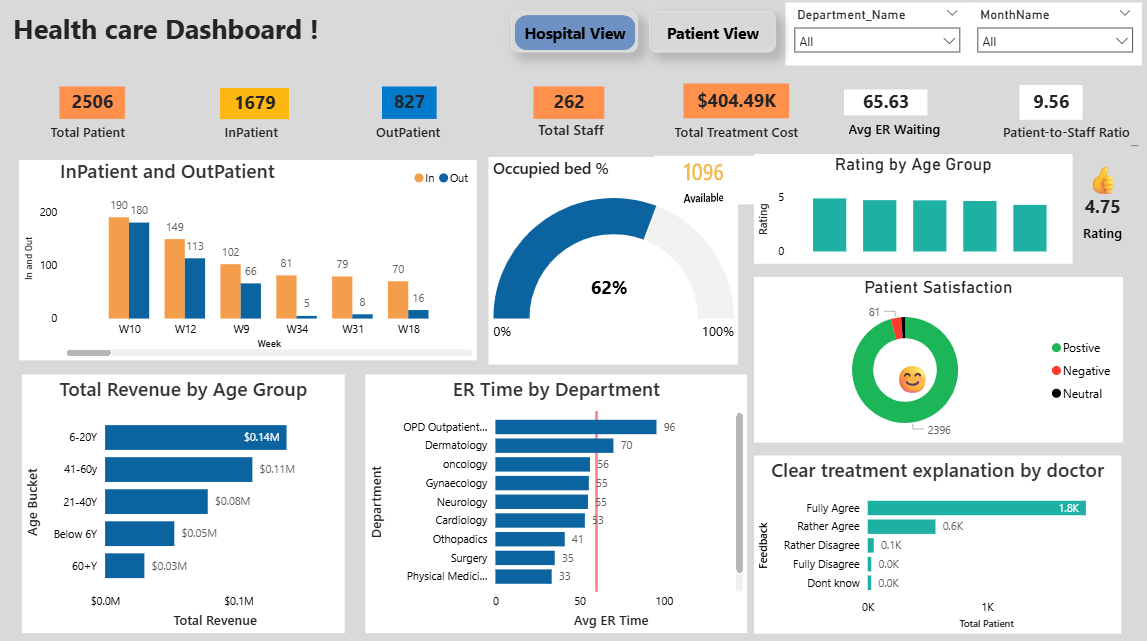

What the dashboard file says about the page in this screenshot:
{"tool":"powerbi","page":{"name":"Hospital Report","canvas":[1280,720],"ordinal":0},"visuals":[{"type":"card","fields":{"Values":["Measure.Total Patient"]},"box":[68.7,98.9,72.8,35.7],"z":0},{"type":"card","fields":{"Values":["Measure.In Patient"]},"box":[247.2,100.3,76.9,34.3],"z":1000},{"type":"card","fields":{"Values":["Measure.Outpatient"]},"box":[427.1,98.9,60.4,35.7],"z":2000},{"type":"clusteredColumnChart","fields":{"Y":["Calendar_date.In Patient","Calendar_date.Outpatient"],"Category":["Calendar_date.WeekName"]},"box":[22.9,180,508.6,222.9],"z":3000},{"type":"clusteredBarChart","title":"Total Revenue by Age Group","fields":{"Y":["Measure.Total Revenue"],"Category":["Detail data dataset.Age Bucket"]},"box":[27.1,418.6,358.6,287.1],"z":4000},{"type":"barChart","title":"ER Time by Department","fields":{"Y":["Measure.Avg ER Time"],"Category":["Department.Department_Name"]},"box":[408.6,418.6,424.3,287.1],"z":5000},{"type":"gauge","fields":{"Y":["Bed_Detail.Occupied bed %"]},"box":[544.8,176.2,277.5,230.9],"z":6000},{"type":"donutChart","title":"Patient Satisfaction ","fields":{"Y":["Measure.Total Patient"],"Category":["Detail data dataset.FZ me"]},"box":[840,310,410,184],"z":8000},{"type":"barChart","title":"Clear treatment explanation by doctor","fields":{"Y":["Measure.Total Patient"],"Category":["Detail data dataset.Feedback"]},"box":[840,508,408,198],"z":9000},{"type":"card","fields":{"Values":["Measure.Rating"]},"box":[1172.7,204.6,107.3,74.9],"z":10000},{"type":"card","fields":{"Values":["Bed_Detail.Thumb"]},"box":[1174.7,176.2,105.3,50.6],"z":11000},{"type":"columnChart","title":"Rating by Age Group","fields":{"Y":["Measure.Rating"],"Category":["Detail data dataset.Age Bucket"]},"box":[840,174,354,122],"z":12000},{"type":"textbox","box":[856.7,186.3,318,34.4],"z":13000},{"type":"card","fields":{"Values":["Sum(Detail data dataset.treatemencost)"]},"box":[761.4,95.7,117.1,38.6],"z":14000},{"type":"card","fields":{"Values":["Bed_Detail.total Staff"]},"box":[594.3,98.6,78.6,35.7],"z":15000},{"type":"card","fields":{"Values":["Measure.Avg ER Time"]},"box":[940,101.4,92.9,28.6],"z":16000},{"type":"card","fields":{"Values":["Bed_Detail.Patient Staff Ratio"]},"box":[1135.7,97.1,70,38.6],"z":17000},{"type":"slicer","fields":{"Values":["Calendar_date.MonthName"]},"box":[1078.6,4.3,192.9,70],"z":18000},{"type":"slicer","fields":{"Values":["Department.Department_Name"]},"box":[874.3,4.3,204.3,70],"z":19000},{"type":"card","fields":{"Values":["Bed_Detail.emzz"]},"box":[984.3,397.1,61.4,52.9],"z":20000},{"type":"textbox","title":"Total Patient","box":[52.7,137.7,105.3,20.3],"z":21000},{"type":"textbox","title":"InPatient","box":[247.1,137.7,105.3,20.3],"z":22000},{"type":"textbox","title":"OutPatient","box":[415.2,137.7,85.1,20.3],"z":23000},{"type":"textbox","title":"Total Staff","box":[595.4,135.7,87.1,22.3],"z":24000},{"type":"textbox","title":"Total Treatment Cost","box":[747.3,137.7,147.8,20.3],"z":25000},{"type":"textbox","title":"Avg ER Waiting ","box":[939.7,135.7,125.6,22.3],"z":26000},{"type":"textbox","title":"Patient-to-Staff Ratio","box":[1111.9,137.7,160,30.4],"z":27000},{"type":"textbox","title":"InPatient and OutPatient Weekly","box":[27.1,177.1,322.9,28.6],"z":28000},{"type":"card","fields":{"Values":["Bed_Detail.Occupied bed %"]},"box":[641.4,295.7,74.3,55.7],"z":29000},{"type":"rotatingTile1859AB39DB23400988ADF752BCB9C967","fields":{"measureData":["CountNonNull(Bed_Detail.Bed Number)","Measure.Occupied Bed","Bed_Detail.Available Bed"]},"box":[724,170,122,64],"z":30000},{"type":"textbox","title":"Health care Dashboard !","box":[12.5,14.1,388.9,48.4],"z":31000},{"type":"actionButton","box":[570.1,14.7,140.6,45.3],"z":32000},{"type":"actionButton","box":[723.1,14.7,140.6,45.3],"z":33000}]}

Visuals, with their boxes in screenshot pixels (x1, y1, x2, y2), scaled from the page's 1280x720 canvas onto the 1147x641 screenshot:
card - Measure.Total Patient: <box>62,88,127,120</box>
card - Measure.In Patient: <box>222,89,290,120</box>
card - Measure.Outpatient: <box>383,88,437,120</box>
clusteredColumnChart - Calendar_date.In Patient x Calendar_date.Outpatient: <box>21,160,476,359</box>
"Total Revenue by Age Group" clusteredBarChart: <box>24,373,346,628</box>
"ER Time by Department" barChart: <box>366,373,746,628</box>
gauge - Bed_Detail.Occupied bed %: <box>488,157,737,362</box>
"Patient Satisfaction " donutChart: <box>753,276,1120,440</box>
"Clear treatment explanation by doctor" barChart: <box>753,452,1118,629</box>
card - Measure.Rating: <box>1051,182,1146,249</box>
card - Bed_Detail.Thumb: <box>1053,157,1146,202</box>
"Rating by Age Group" columnChart: <box>753,155,1070,264</box>
textbox: <box>768,166,1053,196</box>
card - Sum(Detail data dataset.treatemencost): <box>682,85,787,120</box>
card - Bed_Detail.total Staff: <box>533,88,603,120</box>
card - Measure.Avg ER Time: <box>842,90,926,116</box>
card - Bed_Detail.Patient Staff Ratio: <box>1018,86,1080,121</box>
slicer - Calendar_date.MonthName: <box>967,4,1139,66</box>
slicer - Department.Department_Name: <box>783,4,967,66</box>
card - Bed_Detail.emzz: <box>882,354,937,401</box>
"Total Patient" textbox: <box>47,123,142,141</box>
"InPatient" textbox: <box>221,123,316,141</box>
"OutPatient" textbox: <box>372,123,448,141</box>
"Total Staff" textbox: <box>534,121,612,141</box>
"Total Treatment Cost" textbox: <box>670,123,802,141</box>
"Avg ER Waiting " textbox: <box>842,121,955,141</box>
"Patient-to-Staff Ratio" textbox: <box>996,123,1140,150</box>
"InPatient and OutPatient Weekly" textbox: <box>24,158,314,183</box>
card - Bed_Detail.Occupied bed %: <box>575,263,641,313</box>
rotatingTile1859AB39DB23400988ADF752BCB9C967 - CountNonNull(Bed_Detail.Bed Number) x Measure.Occupied Bed: <box>649,151,758,208</box>
"Health care Dashboard !" textbox: <box>11,13,360,56</box>
actionButton: <box>511,13,637,53</box>
actionButton: <box>648,13,774,53</box>
